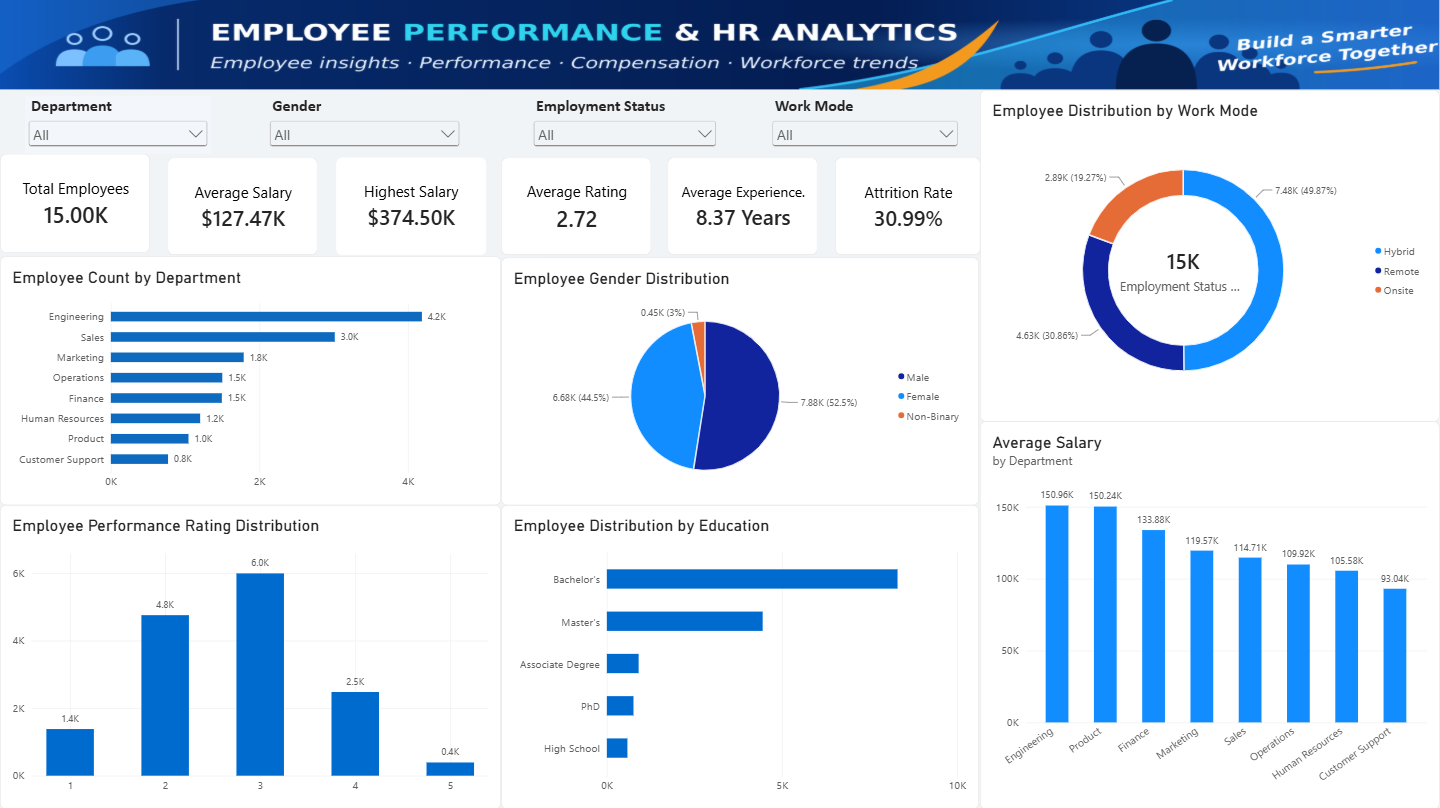

The dashboard page shown, as its layout file describes it:
{"tool":"powerbi","page":{"name":"Page 1","canvas":[1920,1080],"ordinal":0},"visuals":[{"type":"cardVisual","title":"Total Employees","fields":{"Data":["cleaned_hr_dataset.Total Employees"]},"box":[0,205.6,200.1,132.2],"z":0},{"type":"cardVisual","title":"Average Salary","fields":{"Data":["cleaned_hr_dataset.Average Salary"]},"box":[224,209.3,200.1,130.4],"z":1000},{"type":"cardVisual","title":"H","fields":{"Data":["cleaned_hr_dataset.Highest Salary"]},"box":[448,209.3,200.1,130.4],"z":2000},{"type":"cardVisual","fields":{"Data":["cleaned_hr_dataset.Average Experience Display"]},"box":[890.4,209.3,200.1,130.4],"z":3000},{"type":"cardVisual","fields":{"Data":["cleaned_hr_dataset.Attrition Rate"]},"box":[1112.6,209.3,194.6,130.4],"z":4000},{"type":"cardVisual","fields":{"Data":["cleaned_hr_dataset.Average Performance Rating"]},"box":[668.3,209.3,200.1,130.4],"z":5000},{"type":"slicer","fields":{"Values":["cleaned_hr_dataset.Department"]},"box":[33,128.5,247.8,77.1],"z":6000},{"type":"slicer","fields":{"Values":["cleaned_hr_dataset.Gender"]},"box":[354.3,128.5,262.5,77.1],"z":7000},{"type":"slicer","fields":{"Values":["cleaned_hr_dataset.Employment_Status"]},"box":[706.8,128.5,253.4,77.1],"z":8000},{"type":"slicer","fields":{"Values":["cleaned_hr_dataset.Work_Mode"]},"box":[1024.4,128.5,257,80.8],"z":9000},{"type":"clusteredBarChart","title":"Employee Count by Department","fields":{"Category":["cleaned_hr_dataset.Department"],"Y":["CountNonNull(cleaned_hr_dataset.Employee_ID)"]},"box":[0,341.5,668.3,332.3],"z":10000},{"type":"donutChart","title":"Employee Distribution by Work Mode","fields":{"Category":["cleaned_hr_dataset.Work_Mode"],"Y":["CountNonNull(cleaned_hr_dataset.Employee_ID)"]},"box":[1307.2,119.3,613.2,442.5],"z":11000},{"type":"clusteredColumnChart","fields":{"Category":["cleaned_hr_dataset.Department"],"Y":["cleaned_hr_dataset.Average Salary"]},"box":[1307.2,561.8,613.2,517.7],"z":12000},{"type":"clusteredColumnChart","title":"Employee Performance Rating Distribution","fields":{"Category":["cleaned_hr_dataset.Performance_Rating"],"Y":["CountNonNull(cleaned_hr_dataset.Employee_ID)"]},"box":[0,673.8,668.3,405.7],"z":13000},{"type":"pieChart","title":"Employee Gender Distribution","fields":{"Category":["cleaned_hr_dataset.Gender"],"Y":["CountNonNull(cleaned_hr_dataset.Employee_ID)"]},"box":[668.3,343.3,637.1,330.5],"z":14000},{"type":"clusteredBarChart","title":"Employee Distribution by Education","fields":{"Category":["cleaned_hr_dataset.Education"],"Y":["CountNonNull(cleaned_hr_dataset.Employee_ID)"]},"box":[668.3,673.8,637.1,405.7],"z":15000},{"type":"image","box":[0,0,1919.5,118.9],"z":16000}]}

Visuals, with their boxes in screenshot pixels (x1, y1, x2, y2), scaled from the page's 1920x1080 canvas onto the 1440x808 screenshot:
"Total Employees" cardVisual: bbox=[0, 154, 150, 253]
"Average Salary" cardVisual: bbox=[168, 157, 318, 254]
"H" cardVisual: bbox=[336, 157, 486, 254]
cardVisual - cleaned_hr_dataset.Average Experience Display: bbox=[668, 157, 818, 254]
cardVisual - cleaned_hr_dataset.Attrition Rate: bbox=[834, 157, 980, 254]
cardVisual - cleaned_hr_dataset.Average Performance Rating: bbox=[501, 157, 651, 254]
slicer - cleaned_hr_dataset.Department: bbox=[25, 96, 211, 154]
slicer - cleaned_hr_dataset.Gender: bbox=[266, 96, 463, 154]
slicer - cleaned_hr_dataset.Employment_Status: bbox=[530, 96, 720, 154]
slicer - cleaned_hr_dataset.Work_Mode: bbox=[768, 96, 961, 157]
"Employee Count by Department" clusteredBarChart: bbox=[0, 255, 501, 504]
"Employee Distribution by Work Mode" donutChart: bbox=[980, 89, 1439, 420]
clusteredColumnChart - cleaned_hr_dataset.Department x cleaned_hr_dataset.Average Salary: bbox=[980, 420, 1439, 807]
"Employee Performance Rating Distribution" clusteredColumnChart: bbox=[0, 504, 501, 807]
"Employee Gender Distribution" pieChart: bbox=[501, 257, 979, 504]
"Employee Distribution by Education" clusteredBarChart: bbox=[501, 504, 979, 807]
image: bbox=[0, 0, 1439, 89]
